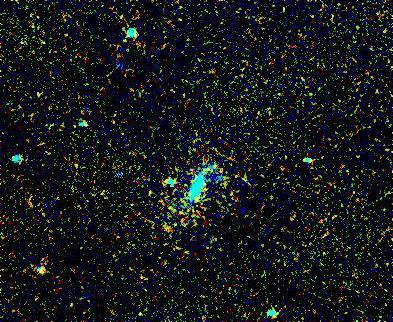star: (150, 219, 180, 249)
